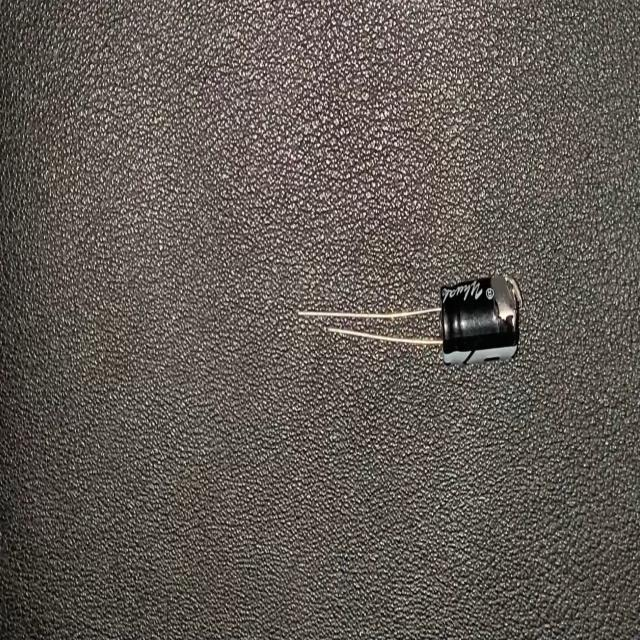capacitor: (294, 265, 526, 371)
cracked: (485, 268, 524, 332)
